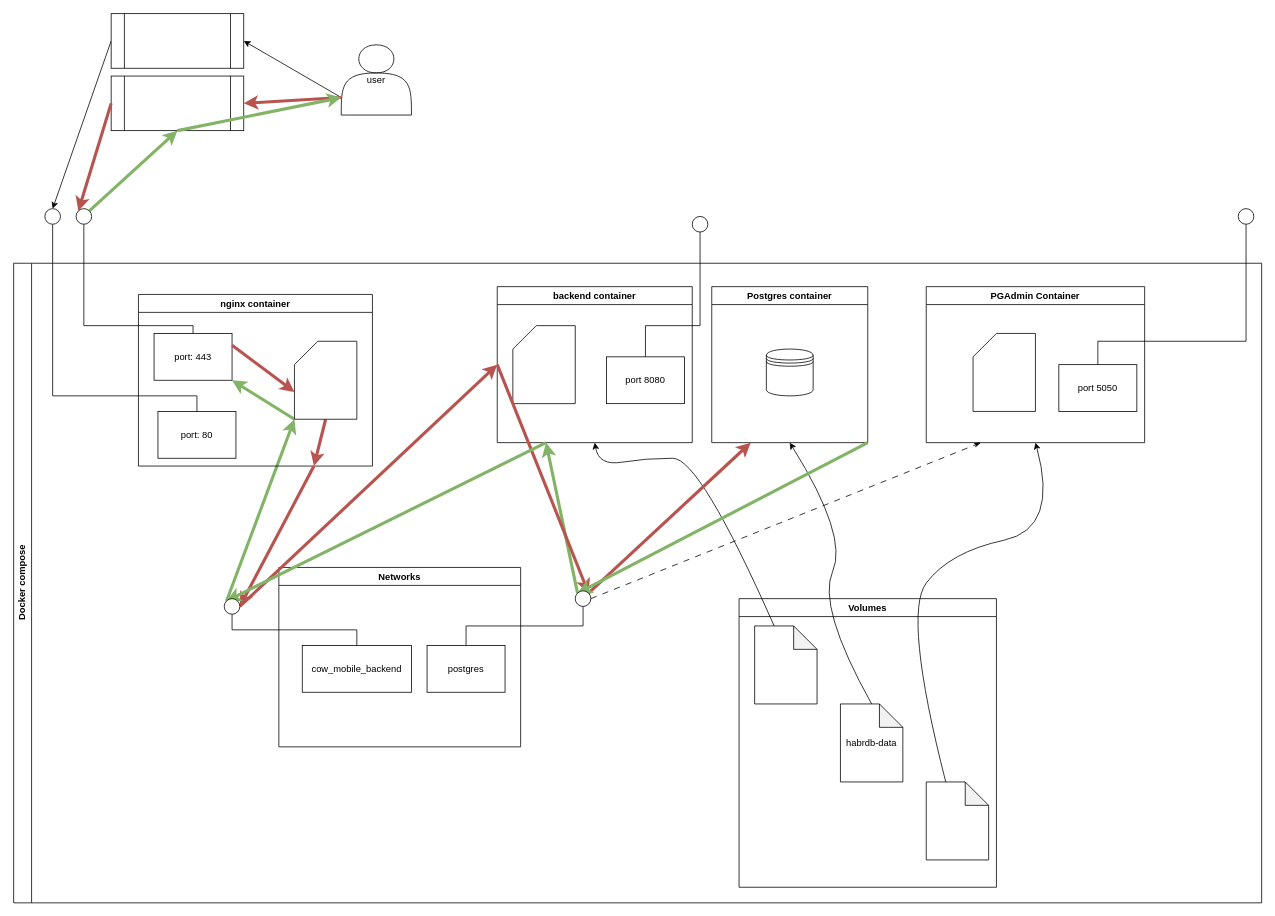
Some shapes in this 1275 by 916 pixel diagram are drawn without their labels. Each missing label, with the centre of its shape:
"backend (business logic)" belongs at (543,364).
"backend-static-data" belongs at (785,664).
"database" belongs at (789,372).
"Frontend (http)" belongs at (177,40).
"Frontend (https)" belongs at (177,103).
"nginx (web server)" belongs at (325,379).
"pgadmin (server)" belongs at (1003,372).
"pgadmin-data" belongs at (957,820).
